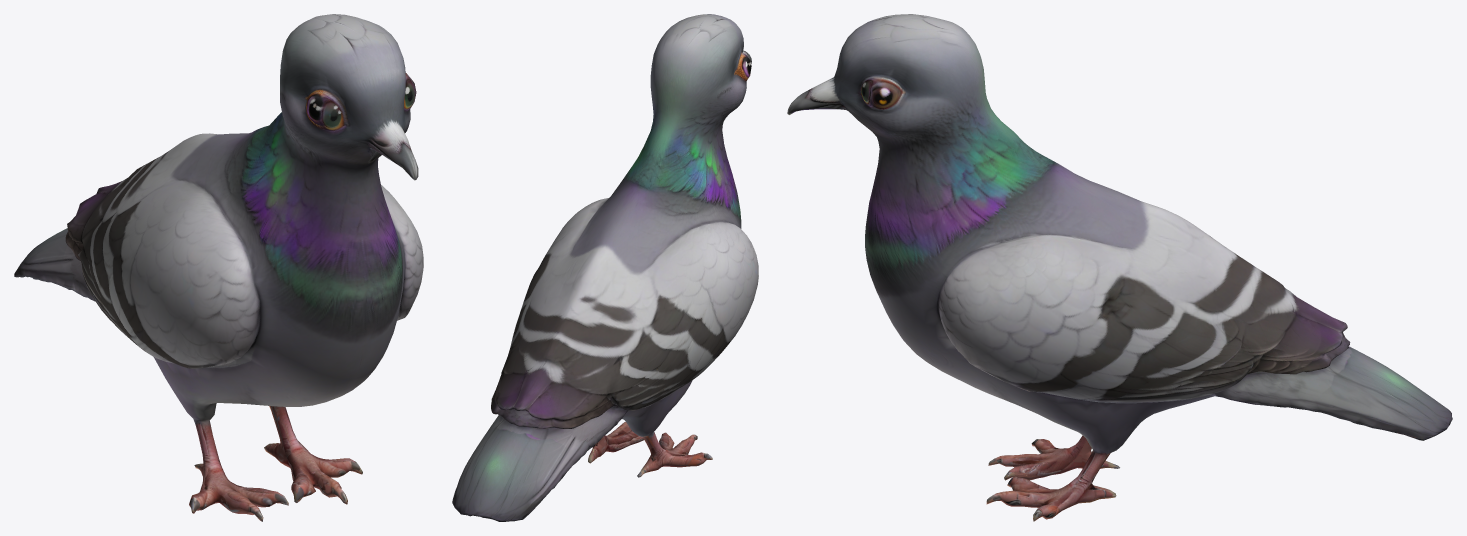
The model's file is pigeon.glb.
3 views of the same model, side by side, from view 1: azimuth 30°, elevation 25°; view 2: azimuth 150°, elevation 25°; view 3: azimuth 270°, elevation 25° (orthographic). The views are drawn at different scales.
Bounding box in the file's own units: 24817 × 51025 × 65343.
Materials: 1 (1 with a texture image).
